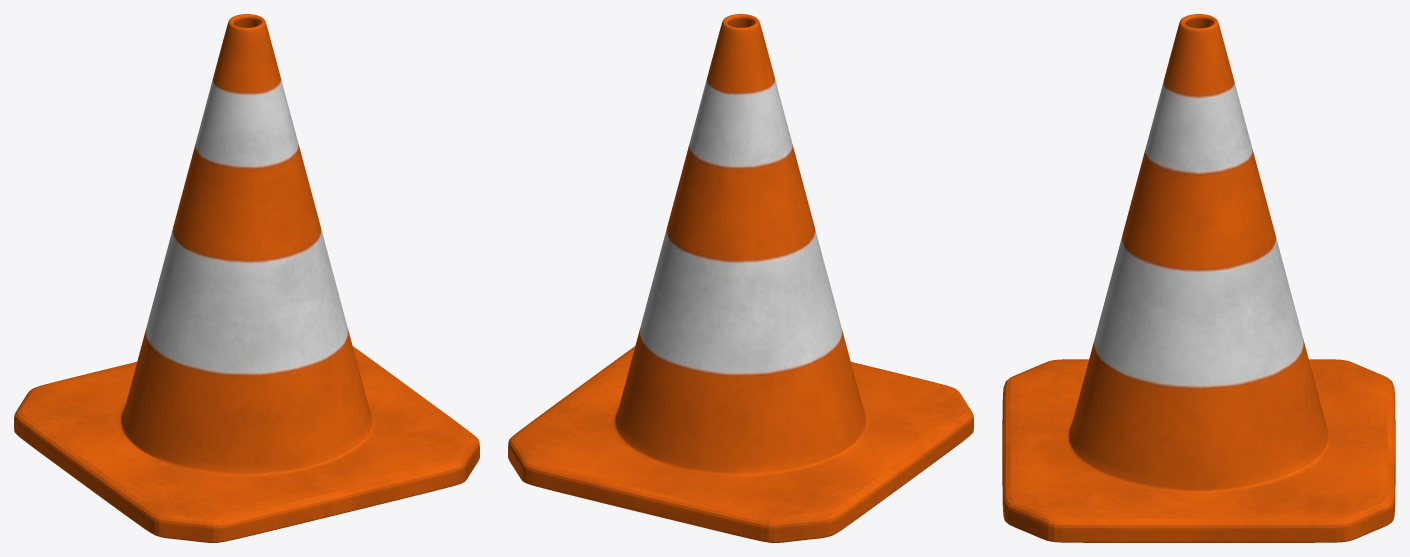
Rendered from barrier-cone.glb.
The picture shows the model from 3 angles, left to right: view 1: azimuth 30°, elevation 25°; view 2: azimuth 150°, elevation 25°; view 3: azimuth 270°, elevation 25°; orthographic projection. The views are drawn at different scales.
Visible parts, largest first — view 1: Cone Retroreflection; view 2: Cone Retroreflection; view 3: Cone Retroreflection.
Part boxes in pixels (x1,y1,x2,y2): Cone Retroreflection: [14, 14, 479, 542]; Cone Retroreflection: [508, 14, 973, 542]; Cone Retroreflection: [1002, 14, 1395, 542].
Bounding box in the file's own units: 0.42 × 0.5188 × 0.42.
Materials: 1 (1 with a texture image).
